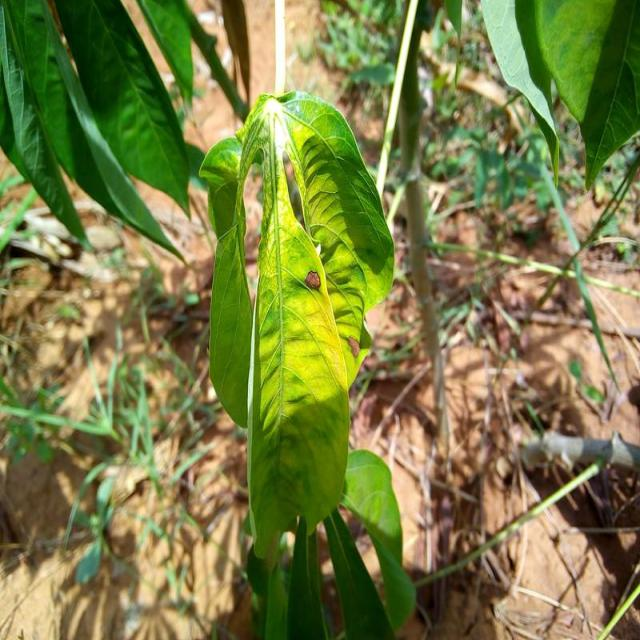cassava leaf: (198, 87, 396, 559), (0, 0, 191, 265)
